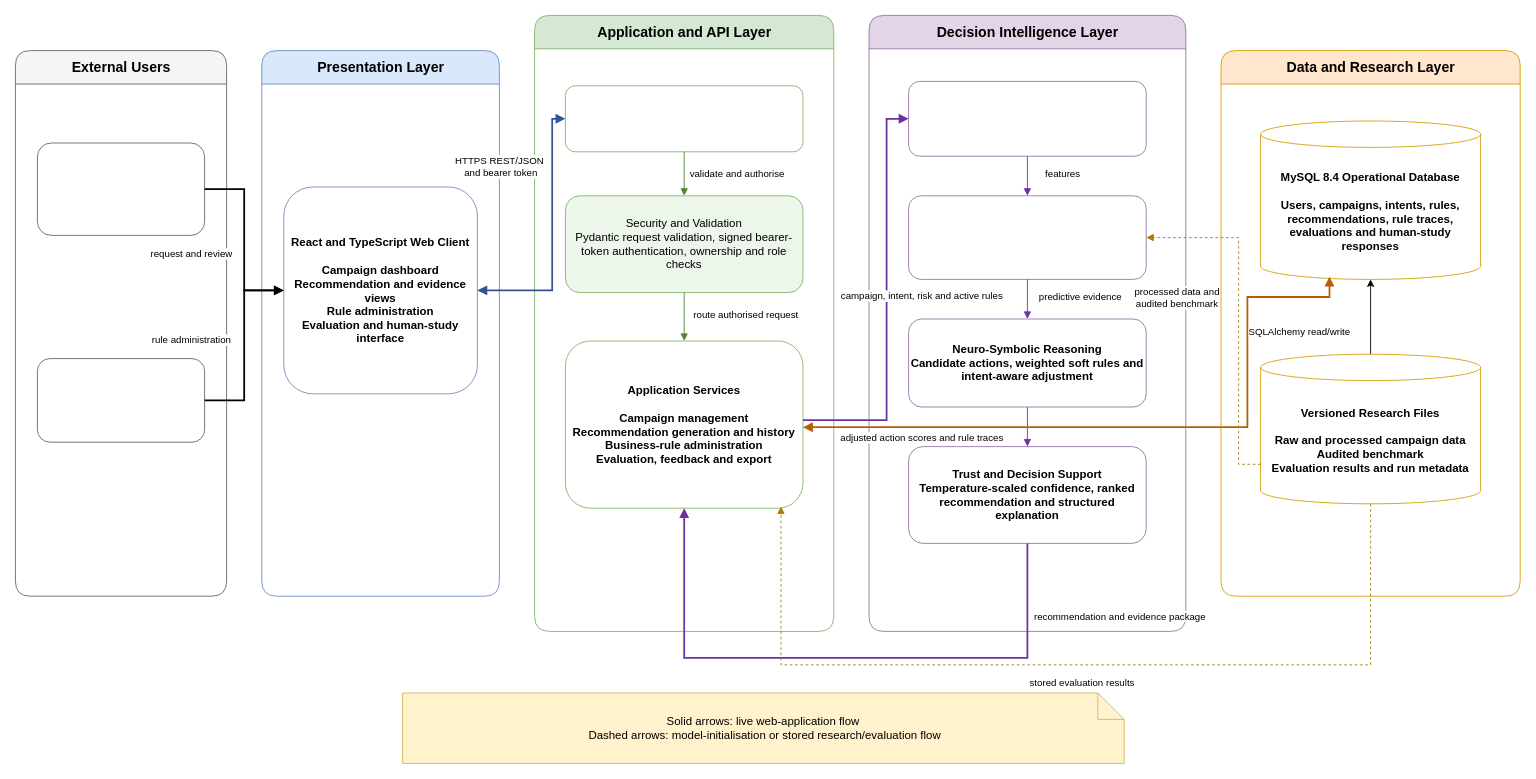
Some shapes in this 1536 by 779 pixel diagram are drawn without their labels. The shapes that lost their labels are listed below. From the top down, each one's centre as x and y in pixels, then its label:
pixel 684 118: FastAPI REST Application Uvicorn application server
pixel 1027 118: Data Preprocessing and Runtime Feature Construction
pixel 121 188: SME Manager Creates campaigns, requests recommendations and reviews evidence
pixel 1027 237: Predictive Analytics ROI-related, supervised action and channel evidence
pixel 121 400: Administrator Maintains rules and reviews evaluation records
